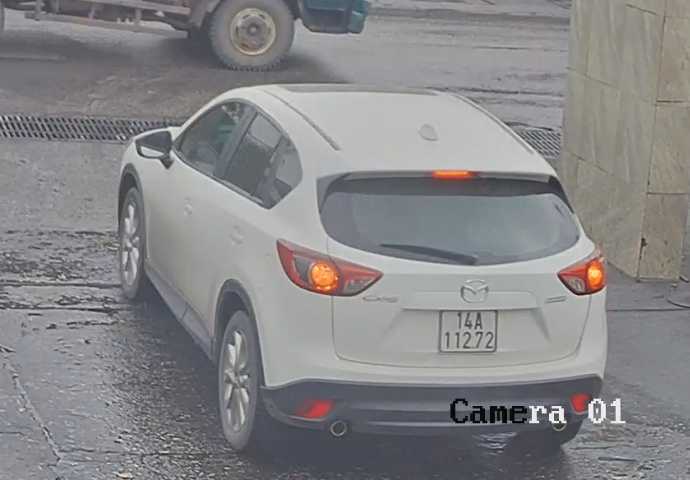vehicle plate: (437, 303, 503, 354)
